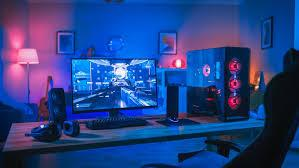keyboard: (86, 117, 147, 129)
